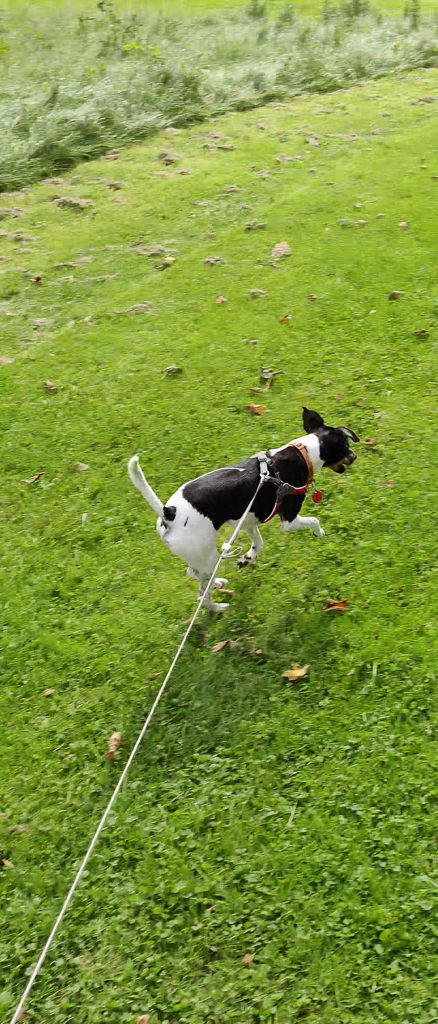Dog: (121, 401, 379, 622)
